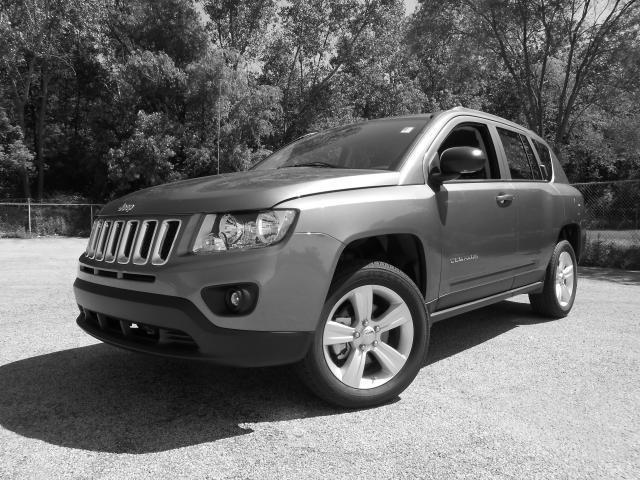car: (74, 105, 590, 411)
